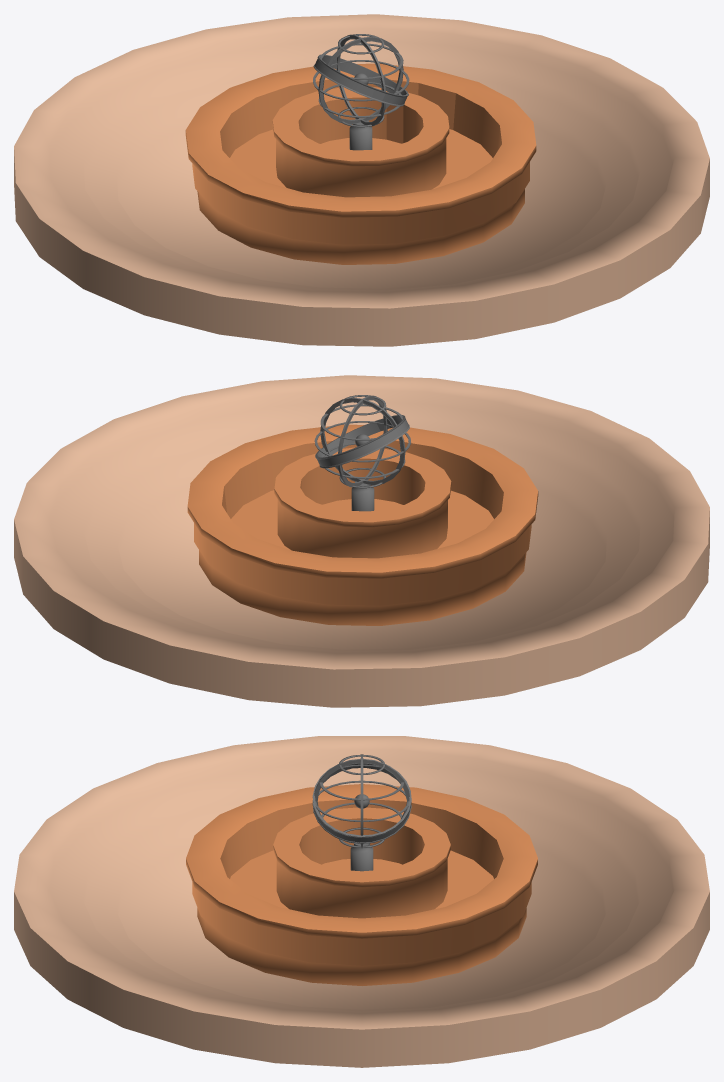
The model's file is senadoSquare.obj.
3 renders of one model, top to bottom at view 1: azimuth 30°, elevation 25°; view 2: azimuth 150°, elevation 25°; view 3: azimuth 270°, elevation 25°, orthographic.
Parts seen in each view (by area): view 1: Cone007, Cone006, Cone004, Cone003, Cone002, Cone001, Cone005; view 2: Cone007, Cone006, Cone004, Cone003, Cone002, Cone001, Cone005; view 3: Cone007, Cone006, Cone004, Cone003, Cone001, Cone005.
Part boxes in pixels (<box>): Cone007: <box>14,14,709,346</box>; Cone006: <box>185,63,536,264</box>; Cone004: <box>272,87,449,197</box>; Cone003: <box>313,54,408,106</box>; Cone002: <box>318,36,403,124</box>; Cone001: <box>336,34,385,126</box>; Cone005: <box>349,120,372,150</box>; Cone007: <box>14,375,709,707</box>; Cone006: <box>187,424,538,625</box>; Cone004: <box>274,447,451,558</box>; Cone003: <box>315,415,409,468</box>; Cone002: <box>320,397,405,485</box>; Cone001: <box>338,395,387,487</box>; Cone005: <box>351,481,374,511</box>; Cone007: <box>14,736,709,1067</box>; Cone006: <box>186,784,537,985</box>; Cone004: <box>273,807,450,918</box>; Cone003: <box>312,763,411,843</box>; Cone001: <box>314,758,409,843</box>; Cone005: <box>350,843,373,871</box>.
Size of the model in its own units: 250 by 64.02 by 250.
